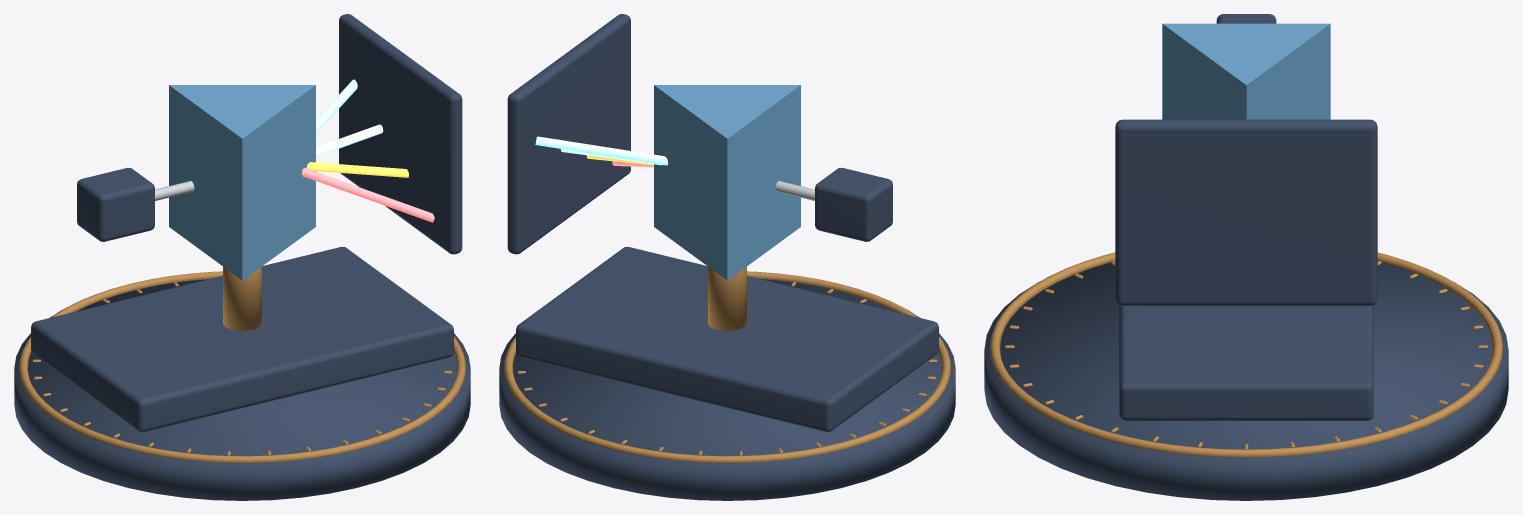
The model's file is brandwall.glb.
3 views of the same model, side by side, from view 1: azimuth 30°, elevation 25°; view 2: azimuth 150°, elevation 25°; view 3: azimuth 270°, elevation 25° (orthographic). The views are drawn at different scales.
Parts seen in each view (by area): view 1: brandwallMount, PrismPivotMesh, SpectrumPivotMesh; view 2: brandwallMount, PrismPivotMesh, SpectrumPivotMesh; view 3: brandwallMount, PrismPivotMesh.
Boxes of the visible parts, x1,y1,x2,y2 form: brandwallMount: [14, 14, 470, 500]; PrismPivotMesh: [169, 85, 315, 280]; SpectrumPivotMesh: [301, 79, 434, 222]; brandwallMount: [499, 14, 955, 500]; PrismPivotMesh: [654, 85, 800, 280]; SpectrumPivotMesh: [535, 136, 668, 167]; brandwallMount: [984, 14, 1508, 500]; PrismPivotMesh: [1162, 23, 1330, 119].
Bounding box in the file's own units: 3.5 × 2.63 × 3.5.
